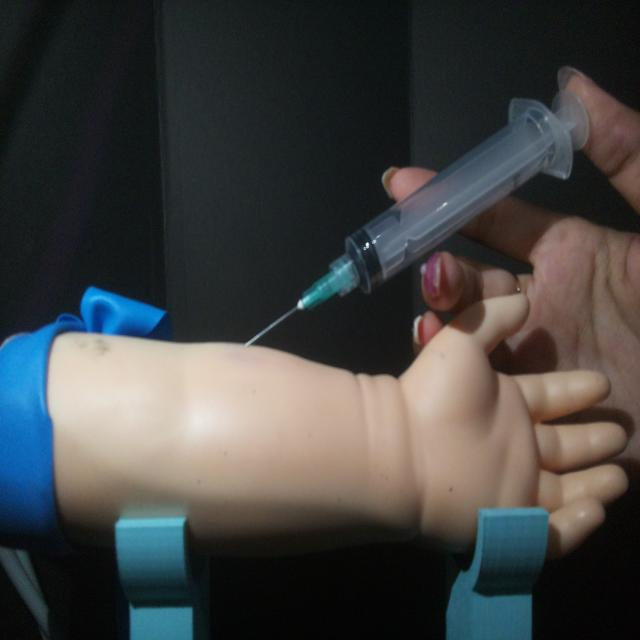30deg: (238, 82, 592, 351)
